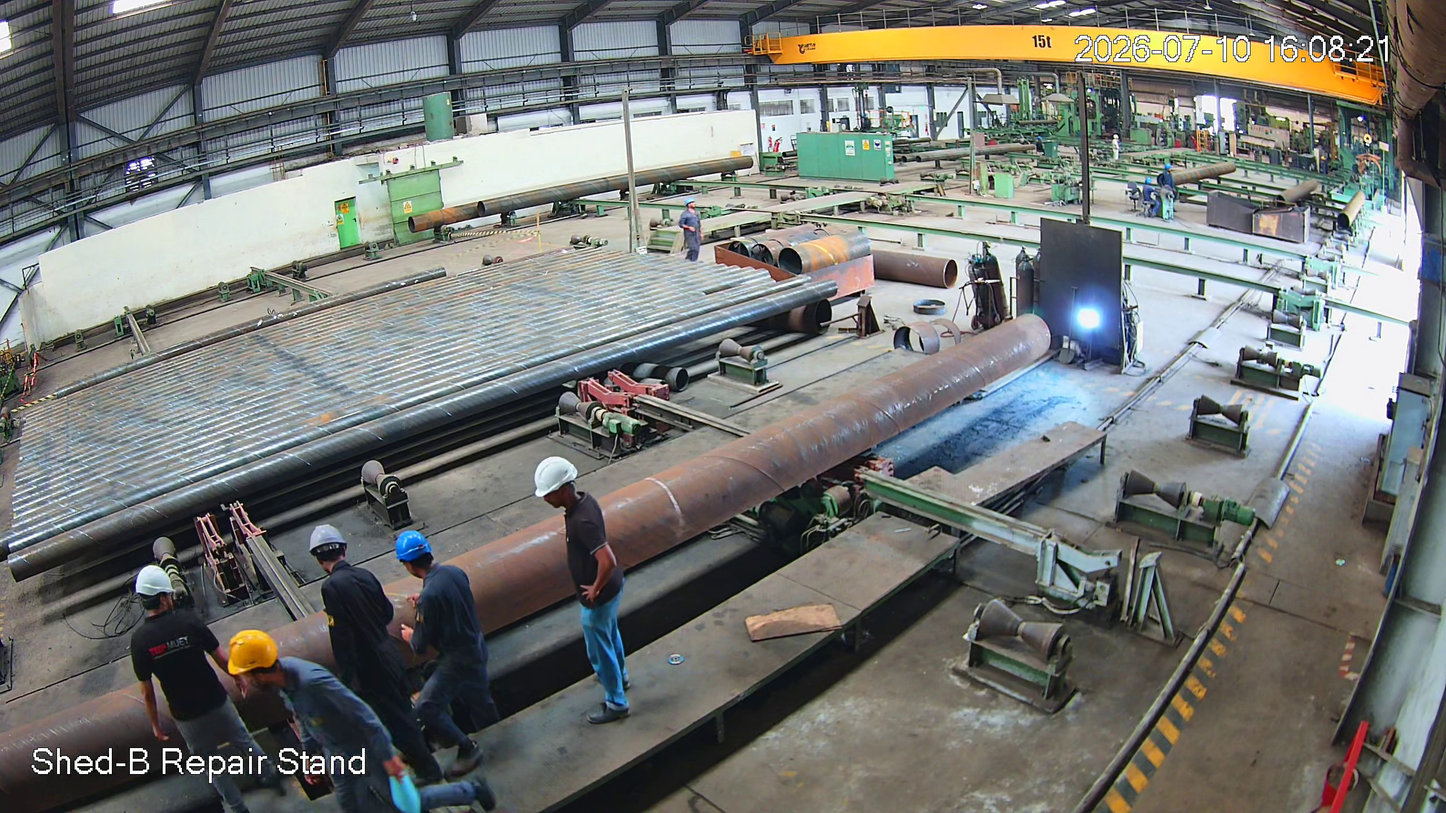Helmet: (218, 630, 300, 710), (526, 446, 581, 515), (386, 525, 449, 584), (125, 566, 185, 624), (304, 518, 360, 580)
Person: (224, 636, 483, 813), (527, 454, 642, 727), (312, 519, 405, 779), (129, 576, 230, 813), (394, 521, 491, 729)
